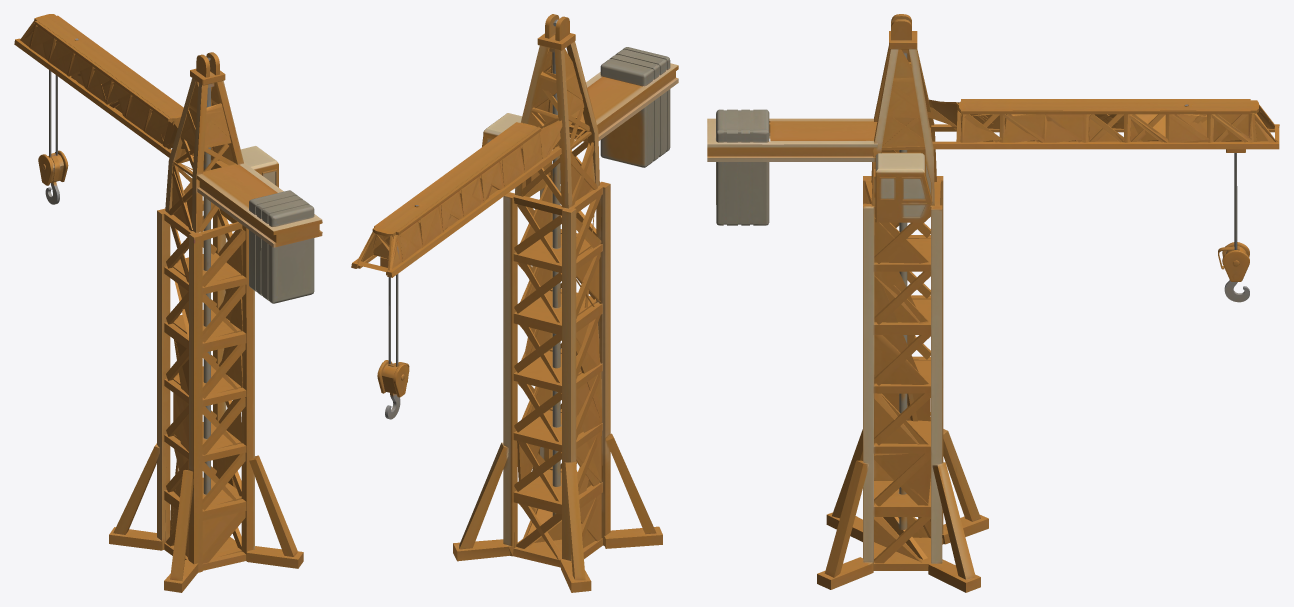
File: wl_crane_lattice.glb
3 views of the same model, side by side, from view 1: azimuth 30°, elevation 25°; view 2: azimuth 150°, elevation 25°; view 3: azimuth 270°, elevation 25° (orthographic). The views are drawn at different scales.
Parts seen in each view (by area): view 1: wl_crane_lattice; view 2: wl_crane_lattice; view 3: wl_crane_lattice.
Boxes of the visible parts, bbox=[...] form: wl_crane_lattice: bbox=[14, 14, 322, 592]; wl_crane_lattice: bbox=[351, 14, 678, 592]; wl_crane_lattice: bbox=[707, 14, 1279, 592].
Size of the model in its own units: 5.28 by 18 by 17.28.
Materials: 1 (1 with a texture image).
